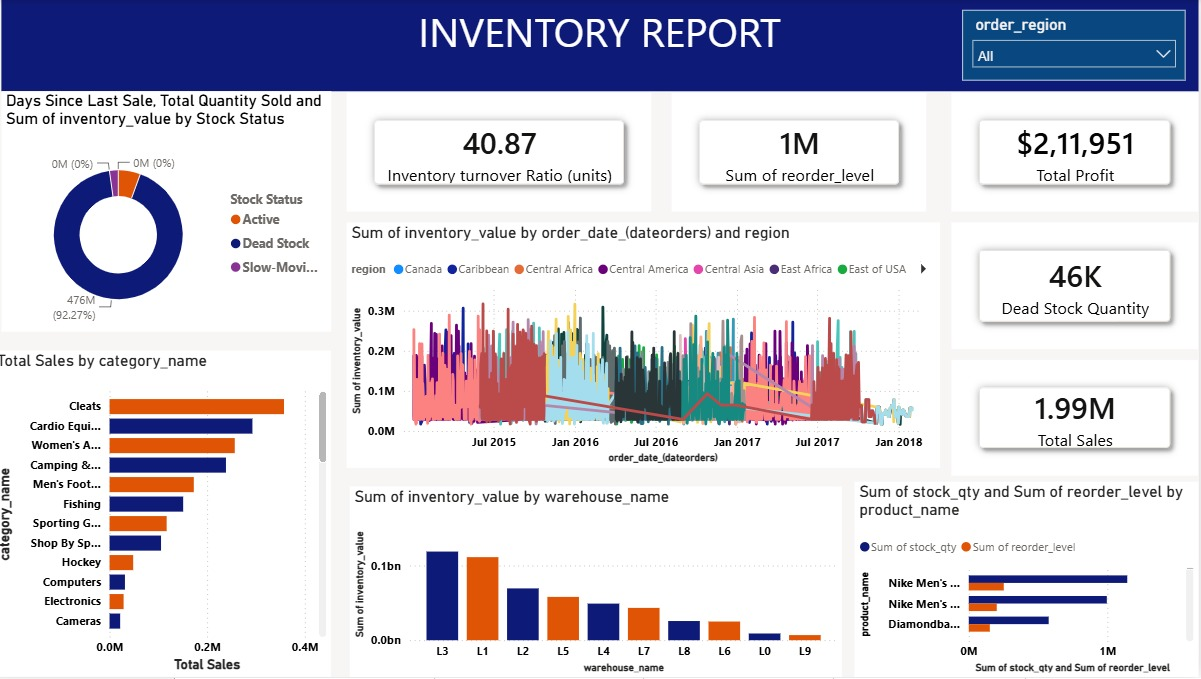

Layout of this report page (visuals, bound fields, positions):
{"tool":"powerbi","page":{"name":"Page 2","canvas":[1280,720],"ordinal":1},"visuals":[{"type":"textbox","box":[9.9,0,1270.1,97.8],"z":0},{"type":"cardVisual","fields":{"Data":["Fact_table.Dead Stock Quantity"]},"box":[1018.1,237.1,262,134.3],"z":1000},{"type":"cardVisual","fields":{"Data":["Fact_table.Slow Moving Quantity"]},"box":[1018.1,383,262,122.7],"z":2000},{"type":"cardVisual","fields":{"Data":["Sum(Fact_table.reorder_level)"]},"box":[721.3,99.5,270.3,126],"z":3000},{"type":"columnChart","fields":{"Y":["Sum(Fact_table.inventory_value)"],"Category":["Dim_Warehouse.warehouse_name"]},"box":[379.7,517.3,522.3,202.3],"z":4000},{"type":"clusteredBarChart","fields":{"Y":["Sum(Fact_table.stock_qty)","Sum(Fact_table.reorder_level)"],"Category":["Fact_table.product_name"]},"box":[915.3,512.4,364.8,207.3],"z":5000},{"type":"clusteredBarChart","fields":{"Y":["Fact_table.Total Sales"],"Category":["Fact_table.category_name"]},"box":[0,373.1,359.8,346.5],"z":6000},{"type":"lineChart","fields":{"Y":["Sum(Fact_table.inventory_value)"],"Category":["Fact_table.order_date_(dateorders)"],"Series":["Fact_table.region"]},"box":[376.4,237.1,630.1,260.3],"z":7000},{"type":"donutChart","fields":{"Y":["Fact_table.Days Since Last Sale","Fact_table.Total Quantity Sold","Sum(Fact_table.inventory_value)"],"Category":["Fact_table.Stock Status"]},"box":[9.9,97.8,349.9,255.3],"z":8000},{"type":"cardVisual","fields":{"Data":["Fact_table.Inventory turnover Ratio (units)"]},"box":[376.4,99.5,323.3,126],"z":9000},{"type":"cardVisual","fields":{"Data":["Fact_table.Fast Moving Products"]},"box":[1018.1,99.5,262,126],"z":10000},{"type":"slicer","fields":{"Values":["Dim_location.order_region"]},"box":[1029.7,11.6,237.1,74.6],"z":11000}]}

Visuals, with their boxes in screenshot pixels (x1, y1, x2, y2), scaled from the page's 1280x720 canvas onto the 1201x679 screenshot:
textbox: 9/0/1200/92
cardVisual - Fact_table.Dead Stock Quantity: 955/224/1200/350
cardVisual - Fact_table.Slow Moving Quantity: 955/361/1200/477
cardVisual - Sum(Fact_table.reorder_level): 677/94/930/213
columnChart - Sum(Fact_table.inventory_value) x Dim_Warehouse.warehouse_name: 356/488/846/678
clusteredBarChart - Sum(Fact_table.stock_qty) x Sum(Fact_table.reorder_level): 859/483/1200/678
clusteredBarChart - Fact_table.Total Sales x Fact_table.category_name: 0/352/338/678
lineChart - Sum(Fact_table.inventory_value) x Fact_table.order_date_(dateorders): 353/224/944/469
donutChart - Fact_table.Days Since Last Sale x Fact_table.Total Quantity Sold: 9/92/338/333
cardVisual - Fact_table.Inventory turnover Ratio (units): 353/94/657/213
cardVisual - Fact_table.Fast Moving Products: 955/94/1200/213
slicer - Dim_location.order_region: 966/11/1189/81
